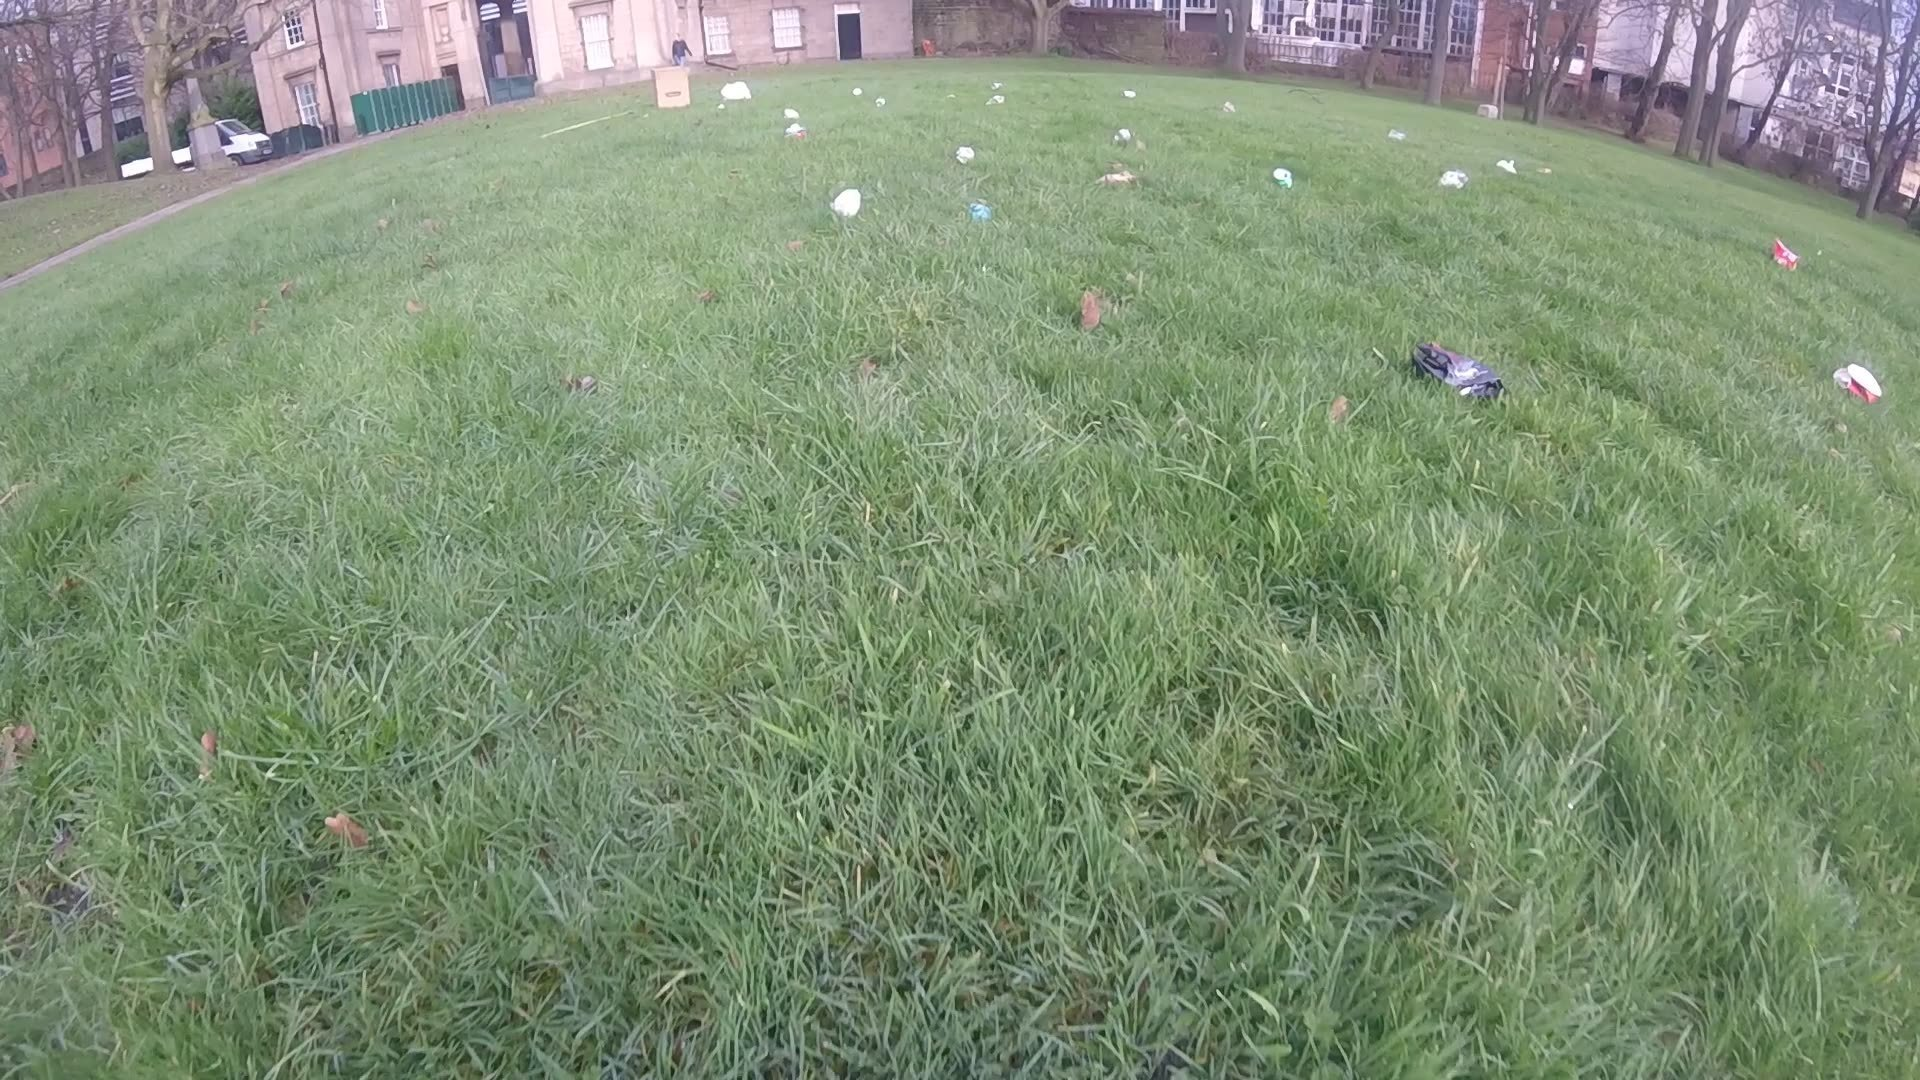litter: (1414, 340, 1503, 402), (1833, 361, 1880, 404), (655, 67, 691, 109), (1767, 233, 1800, 276), (833, 186, 861, 222), (1440, 167, 1470, 190), (719, 83, 756, 100), (1273, 164, 1291, 189), (953, 145, 976, 165), (969, 204, 994, 222), (1087, 171, 1130, 181), (1497, 157, 1516, 175), (783, 105, 802, 121), (1113, 129, 1130, 144), (787, 123, 804, 137), (1218, 102, 1238, 113), (872, 94, 887, 108), (1389, 131, 1406, 142), (984, 95, 1002, 105), (988, 80, 1005, 91), (1538, 165, 1553, 175), (851, 84, 862, 96), (1122, 92, 1137, 102), (715, 102, 725, 109)
